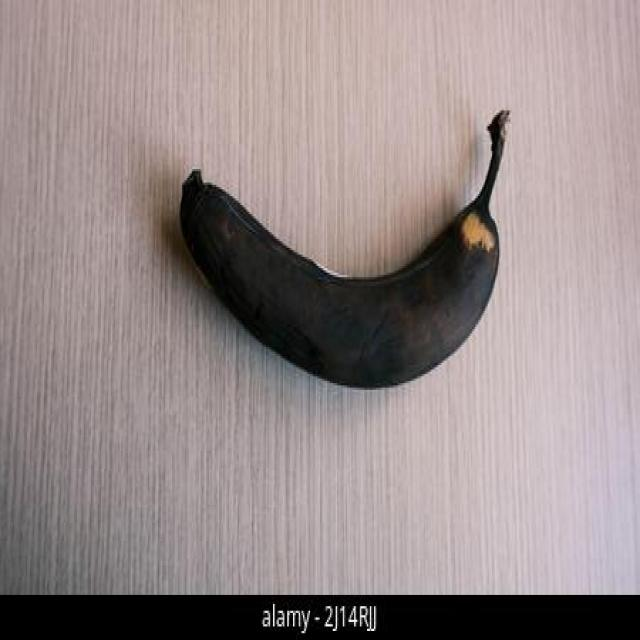Rotten: (179, 108, 512, 390)
